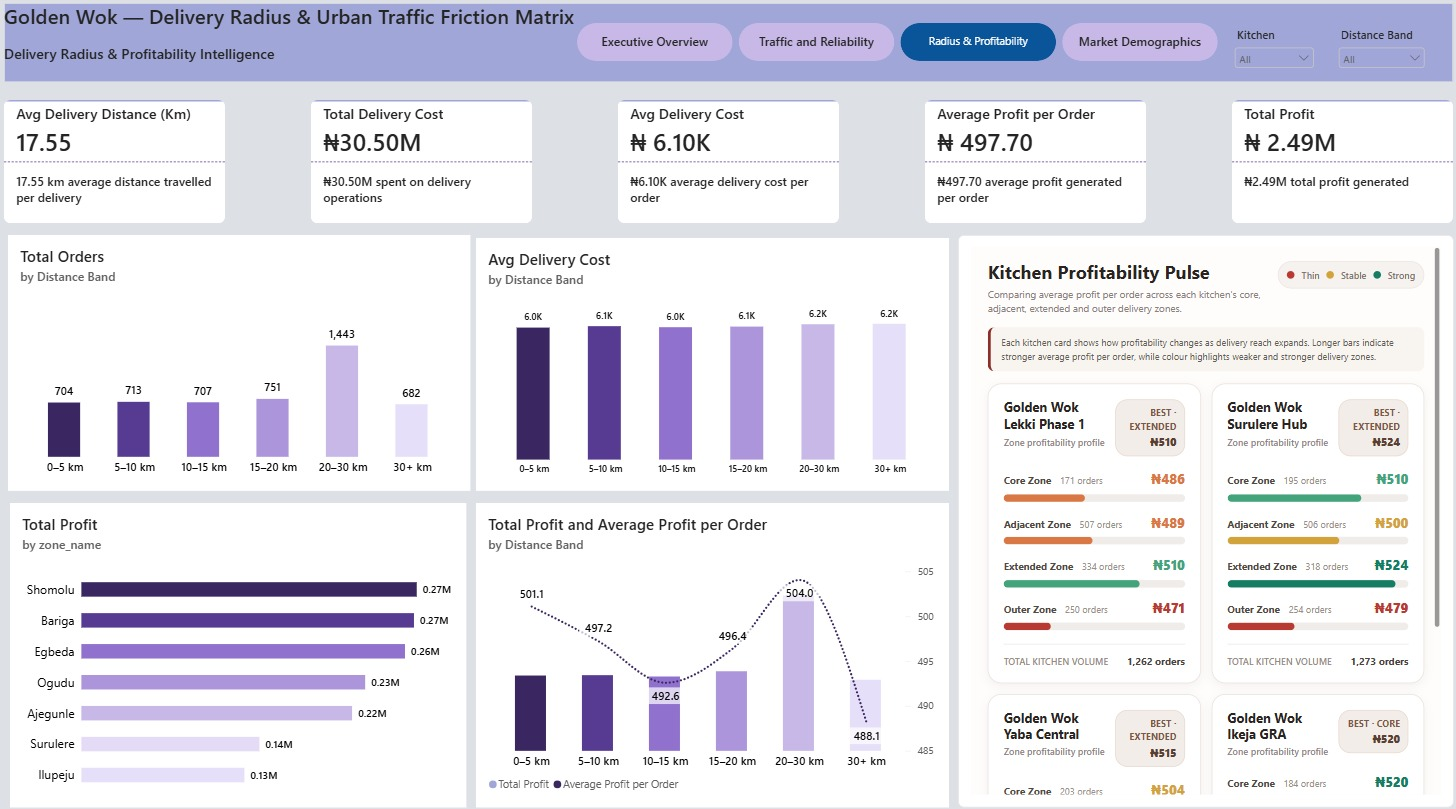

This screenshot's page, from the dashboard's own definition file:
{"tool":"powerbi","page":{"name":"Radius & Profitability","canvas":[1920,1080],"ordinal":2},"visuals":[{"type":"shape","box":[5.7,10,1908.6,104.3],"z":0},{"type":"cardVisual","fields":{"Data":["Dax Measure.Avg Delivery Distance"]},"box":[5.6,138.9,291.7,162.5],"z":1000},{"type":"cardVisual","fields":{"Data":["Dax Measure.Total Delivery Cost"]},"box":[409.7,138.9,291.7,162.5],"z":2000},{"type":"cardVisual","fields":{"Data":["Dax Measure.Avg Delivery Cost"]},"box":[813.9,138.9,291.7,162.5],"z":3000},{"type":"cardVisual","fields":{"Data":["Dax Measure.Average Profit per Order"]},"box":[1218.1,138.9,291.7,162.5],"z":4000},{"type":"cardVisual","fields":{"Data":["Dax Measure.Total Profit"]},"box":[1622.2,138.9,291.7,162.5],"z":5000},{"type":"clusteredColumnChart","fields":{"Category":["fact_orders.Distance Band"],"Y":["Dax Measure.Total Orders"]},"box":[10,315.7,608.6,337.1],"z":6000},{"type":"clusteredColumnChart","fields":{"Category":["fact_orders.Distance Band"],"Y":["Dax Measure.Avg Delivery Cost"]},"box":[627.1,320,622.9,332.9],"z":7000},{"type":"textbox","box":[5.4,9.5,754.1,105.4],"z":8000},{"type":"clusteredBarChart","fields":{"Category":["dim_delivery_zone.zone_name"],"Y":["Dax Measure.Total Profit"]},"box":[12.9,668.6,601.4,401.4],"z":9000},{"type":"lineClusteredColumnComboChart","fields":{"Category":["fact_orders.Distance Band"],"Y":["Dax Measure.Total Profit"],"Y2":["Dax Measure.Average Profit per Order"]},"box":[627.1,668.6,622.9,401.4],"z":10000},{"type":"htmlContent443BE3AD55E043BF878BED274D3A6865","fields":{"content":["Dax Measure.HTML - Kitchen Zone Profitability Matrix"]},"box":[1261.4,315.7,652.9,754.3],"z":11000},{"type":"pageNavigator","box":[759.5,36.5,847.3,50],"z":11001},{"type":"slicer","fields":{"Values":["dim_rider.vehicle_type"]},"box":[1621.6,41.9,113.5,60.8],"z":11002},{"type":"slicer","fields":{"Values":["dim_rider.vehicle_type"]},"box":[1758.1,41.9,123,60.8],"z":11003}]}

Visuals, with their boxes in screenshot pixels (x1, y1, x2, y2), scaled from the page's 1920x1080 canvas onto the 1456x809 screenshot:
shape: l=4, t=7, r=1452, b=86
cardVisual - Dax Measure.Avg Delivery Distance: l=4, t=104, r=225, b=226
cardVisual - Dax Measure.Total Delivery Cost: l=311, t=104, r=532, b=226
cardVisual - Dax Measure.Avg Delivery Cost: l=617, t=104, r=838, b=226
cardVisual - Dax Measure.Average Profit per Order: l=924, t=104, r=1145, b=226
cardVisual - Dax Measure.Total Profit: l=1230, t=104, r=1451, b=226
clusteredColumnChart - fact_orders.Distance Band x Dax Measure.Total Orders: l=8, t=236, r=469, b=489
clusteredColumnChart - fact_orders.Distance Band x Dax Measure.Avg Delivery Cost: l=476, t=240, r=948, b=489
textbox: l=4, t=7, r=576, b=86
clusteredBarChart - dim_delivery_zone.zone_name x Dax Measure.Total Profit: l=10, t=501, r=466, b=802
lineClusteredColumnComboChart - fact_orders.Distance Band x Dax Measure.Total Profit: l=476, t=501, r=948, b=802
htmlContent443BE3AD55E043BF878BED274D3A6865 - Dax Measure.HTML - Kitchen Zone Profitability Matrix: l=957, t=236, r=1452, b=802
pageNavigator: l=576, t=27, r=1218, b=65
slicer - dim_rider.vehicle_type: l=1230, t=31, r=1316, b=77
slicer - dim_rider.vehicle_type: l=1333, t=31, r=1427, b=77
